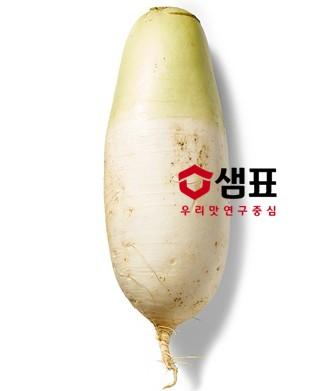radish: (54, 1, 122, 239)
